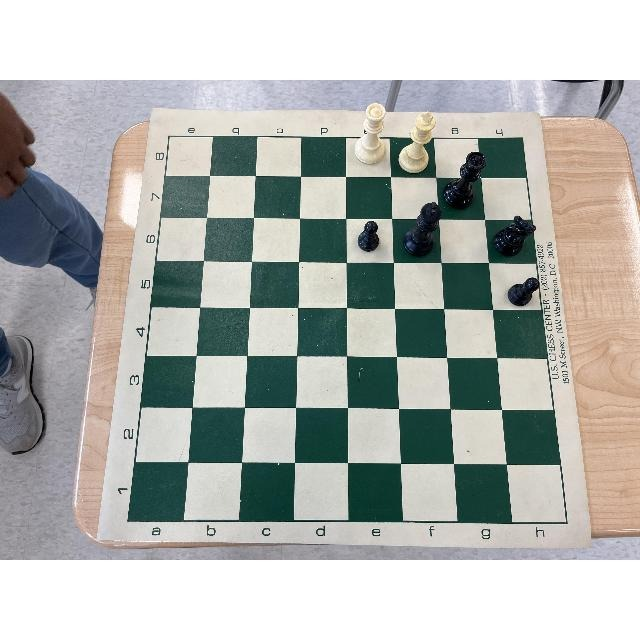black-king: (403, 194, 443, 258)
black-knight: (481, 215, 537, 263)
black-pawn: (353, 210, 387, 256), (502, 265, 538, 304)
black-queen: (441, 147, 489, 208)
white-king: (399, 99, 435, 175)
white-queen: (345, 90, 390, 170)
